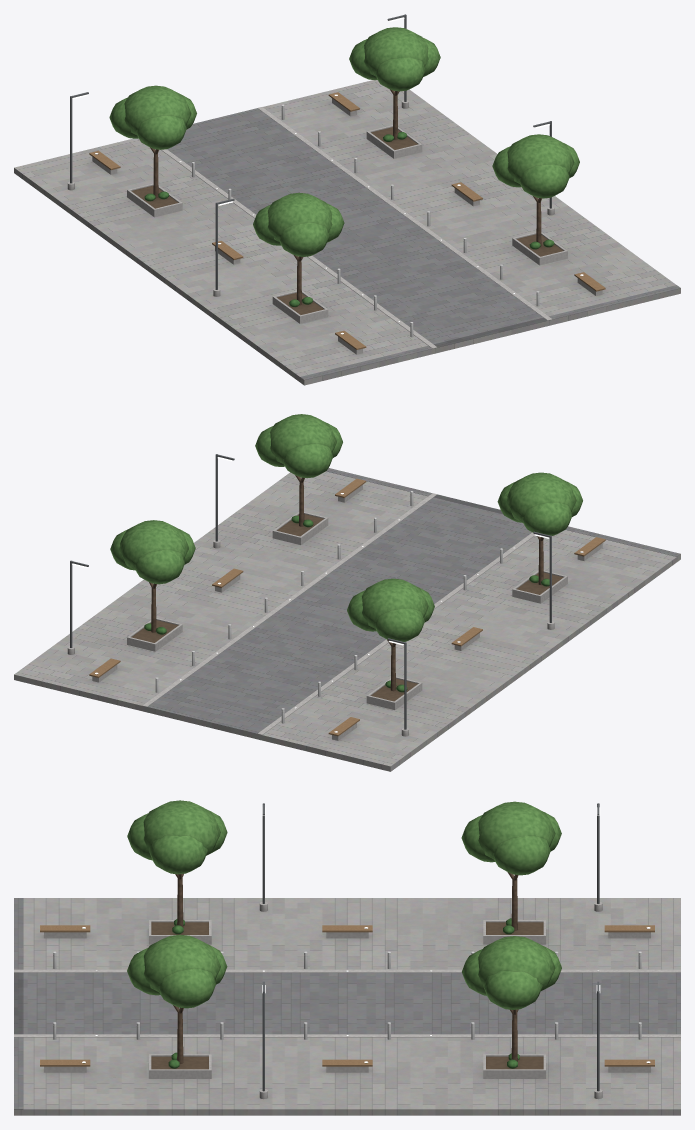
File: IlsanPlaza01.fbx
3 views of the same model, one above another, from view 1: azimuth 30°, elevation 25°; view 2: azimuth 150°, elevation 25°; view 3: azimuth 270°, elevation 25° (orthographic). The views are drawn at different scales.
Parts seen in each view (by area): view 1: IlsanPlaza01; view 2: IlsanPlaza01; view 3: IlsanPlaza01.
Boxes of the visible parts, x1,y1,x2,y2 form: IlsanPlaza01: [14, 14, 680, 385]; IlsanPlaza01: [14, 414, 680, 771]; IlsanPlaza01: [14, 800, 680, 1115].
Size of the model in its own units: 23.9 by 7.22 by 31.9.
1 material, 1 textured.
